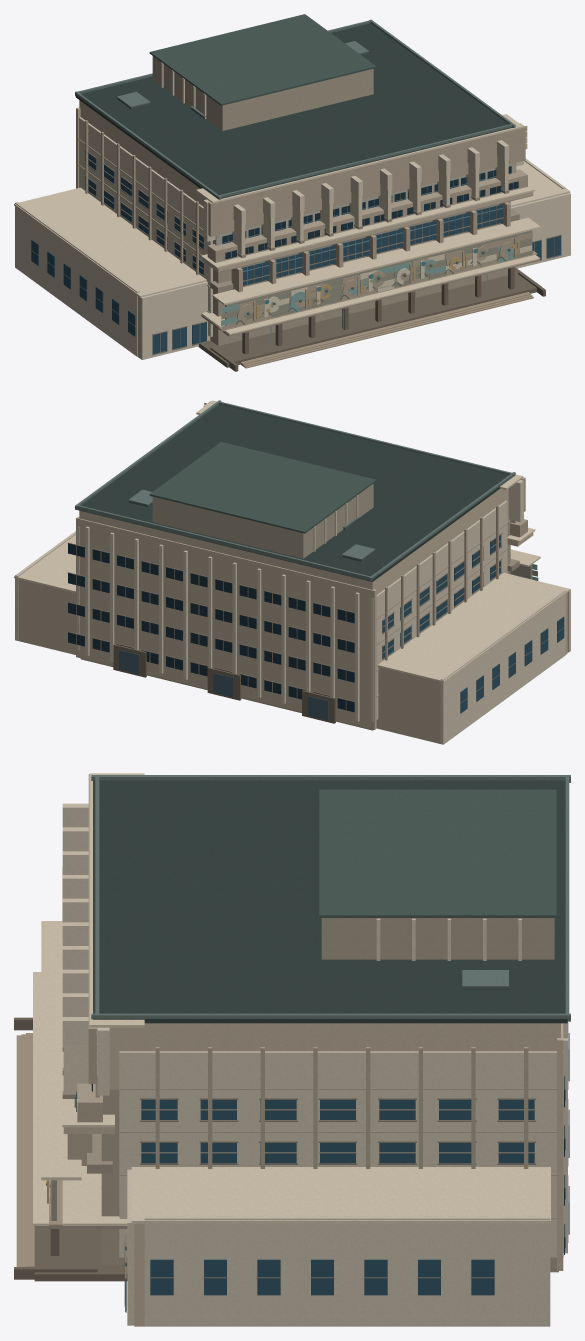
The model's file is sats_theatre.glb.
3 views of the same model, one above another, from view 1: azimuth 30°, elevation 25°; view 2: azimuth 150°, elevation 25°; view 3: azimuth 270°, elevation 25° (orthographic). The views are drawn at different scales.
Parts seen in each view (by area): view 1: Sats_roof_dark, Sats_cornice, Sats_facade_light, Sats_concrete, Sats_roof, Sats_facade_mid, Sats_glass, Sats_granite, Sats_roof_light, Sats_relief_bg, Sats_granite_light, Sats_relief_mid (+10 smaller); view 2: Sats_facade, Sats_facade_light, Sats_roof_dark, Sats_roof, Sats_cornice, Sats_glass_dark, Sats_facade_mid, Sats_roof_light, Sats_glass, Sats_frame, Sats_concrete, Sats_granite (+1 smaller); view 3: Sats_facade_light, Sats_roof_dark, Sats_cornice, Sats_roof, Sats_facade, Sats_glass, Sats_facade_mid, Sats_roof_light, Sats_concrete, Sats_granite, Sats_granite_light, Sats_frame (+1 smaller).
Boxes of the visible parts, box(x1,y1,x2,y2) form: Sats_roof_dark: box(75, 23, 512, 199); Sats_cornice: box(14, 114, 570, 334); Sats_facade_light: box(15, 62, 570, 359); Sats_concrete: box(85, 120, 527, 292); Sats_roof: box(117, 14, 376, 118); Sats_facade_mid: box(77, 56, 510, 345); Sats_glass: box(31, 151, 561, 354); Sats_granite: box(198, 267, 545, 371); Sats_roof_light: box(75, 19, 515, 199); Sats_relief_bg: box(221, 230, 532, 325); Sats_granite_light: box(218, 251, 537, 368); Sats_relief_mid: box(221, 232, 532, 331); Sats_facade: box(18, 403, 567, 743); Sats_facade_light: box(15, 403, 570, 744); Sats_roof_dark: box(78, 404, 515, 581); Sats_roof: box(129, 442, 376, 561); Sats_cornice: box(14, 400, 570, 682); Sats_glass_dark: box(68, 543, 354, 712); Sats_facade_mid: box(80, 483, 510, 730); Sats_roof_light: box(75, 400, 515, 581); Sats_glass: box(382, 535, 564, 713); Sats_frame: box(67, 533, 564, 710); Sats_concrete: box(208, 401, 527, 660); Sats_granite: box(113, 644, 335, 723); Sats_facade_light: box(62, 803, 567, 1326); Sats_roof_dark: box(93, 780, 567, 1023); Sats_cornice: box(33, 773, 550, 1225); Sats_roof: box(319, 789, 556, 990); Sats_facade: box(96, 1023, 563, 1326); Sats_glass: box(125, 1100, 534, 1312); Sats_facade_mid: box(101, 918, 558, 1272); Sats_roof_light: box(91, 775, 570, 1021); Sats_concrete: box(67, 774, 528, 1168); Sats_granite: box(14, 1017, 568, 1281); Sats_granite_light: box(16, 1033, 62, 1266); Sats_frame: box(74, 1075, 565, 1311).
Bounding box in the file's own units: 95.6 × 38.53 × 64.55.
32 materials, 20 textured.
